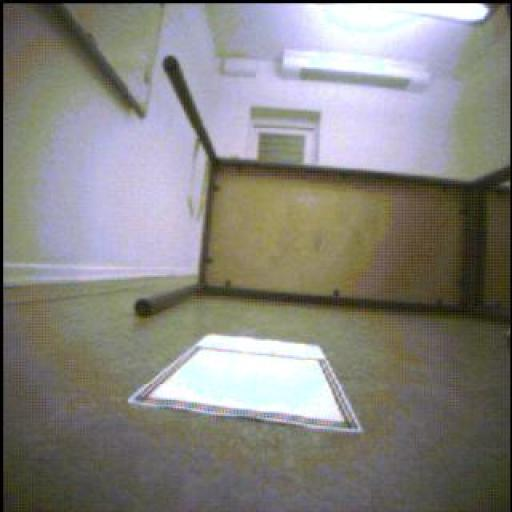Pad: (138, 332, 370, 432)
